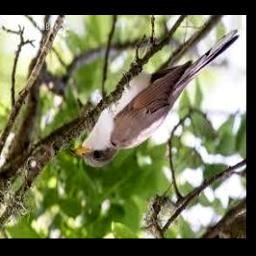Cuckoo: (69, 31, 239, 168)
